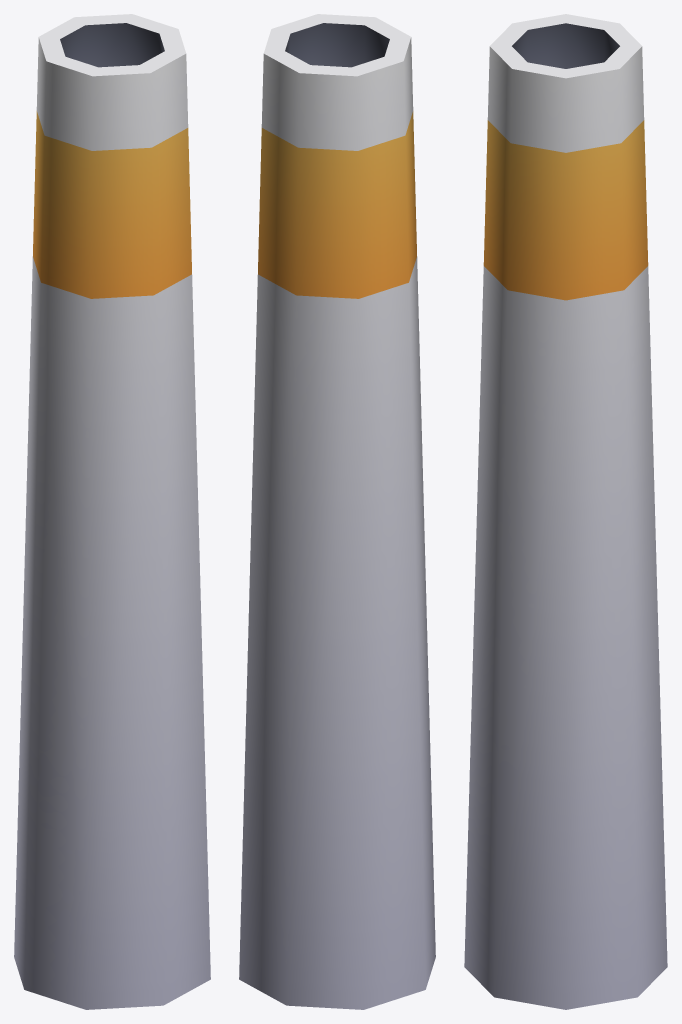
Rendered from chimney-basic.glb.
3 renders of one model, left to right at view 1: azimuth 30°, elevation 25°; view 2: azimuth 150°, elevation 25°; view 3: azimuth 270°, elevation 25°, orthographic.
Visible parts, largest first — view 1: chimney-basic; view 2: chimney-basic; view 3: chimney-basic.
Part boxes in pixels (<box>): chimney-basic: <box>14,14,210,1009</box>; chimney-basic: <box>239,14,435,1009</box>; chimney-basic: <box>464,14,667,1009</box>.
Bounding box in the file's own units: 0.2 × 1 × 0.2.
Materials: 1 (1 with a texture image).
